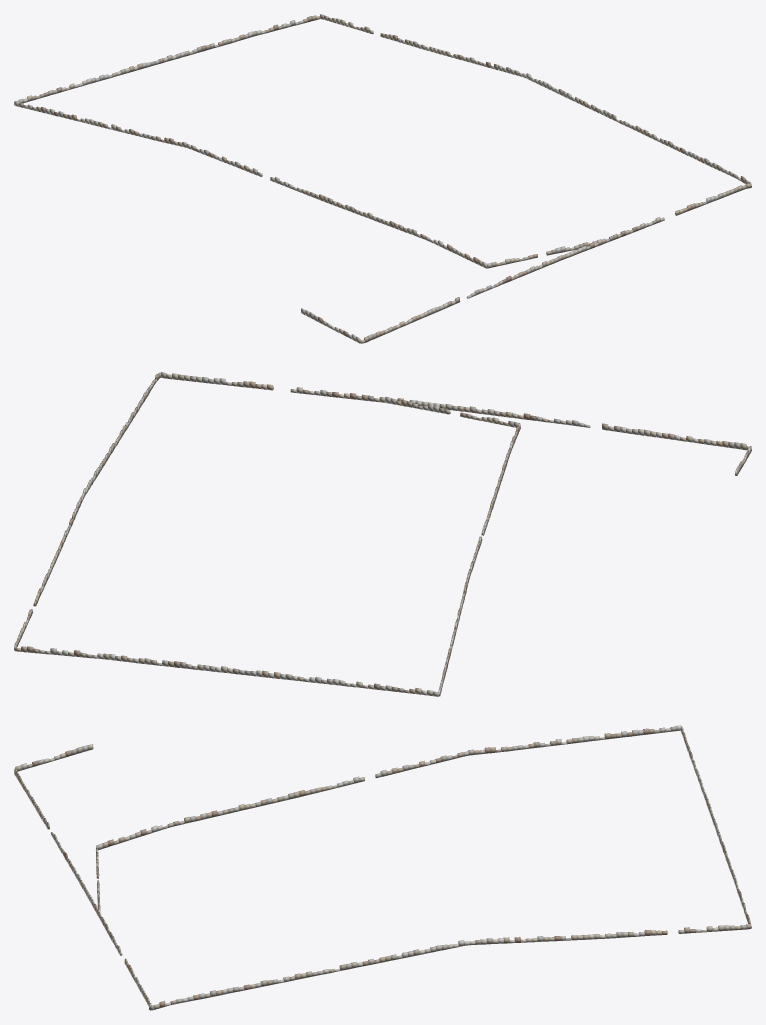
The model's file is farm_-26_-20_collision.glb.
The picture shows the model from 3 angles, top to bottom: view 1: azimuth 30°, elevation 25°; view 2: azimuth 150°, elevation 25°; view 3: azimuth 270°, elevation 25°; orthographic projection. The views are drawn at different scales.
Visible parts, largest first — view 1: geometry_0; view 2: geometry_0; view 3: geometry_0.
Boxes of the visible parts, bbox=[...] form: geometry_0: bbox=[14, 14, 751, 343]; geometry_0: bbox=[14, 372, 751, 696]; geometry_0: bbox=[14, 725, 751, 1010].
Size of the model in its own units: 165 by 12.12 by 199.
